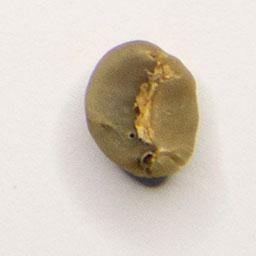premium: (80, 36, 203, 186)
